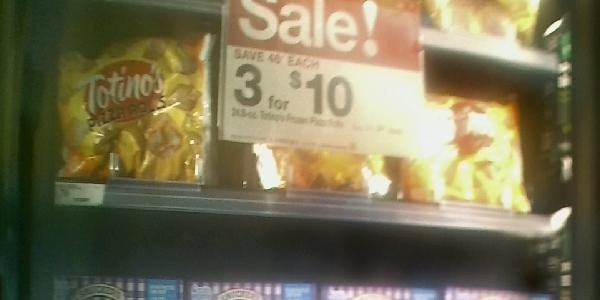icecream: (238, 8, 415, 203), (50, 15, 219, 190), (404, 43, 537, 215)
